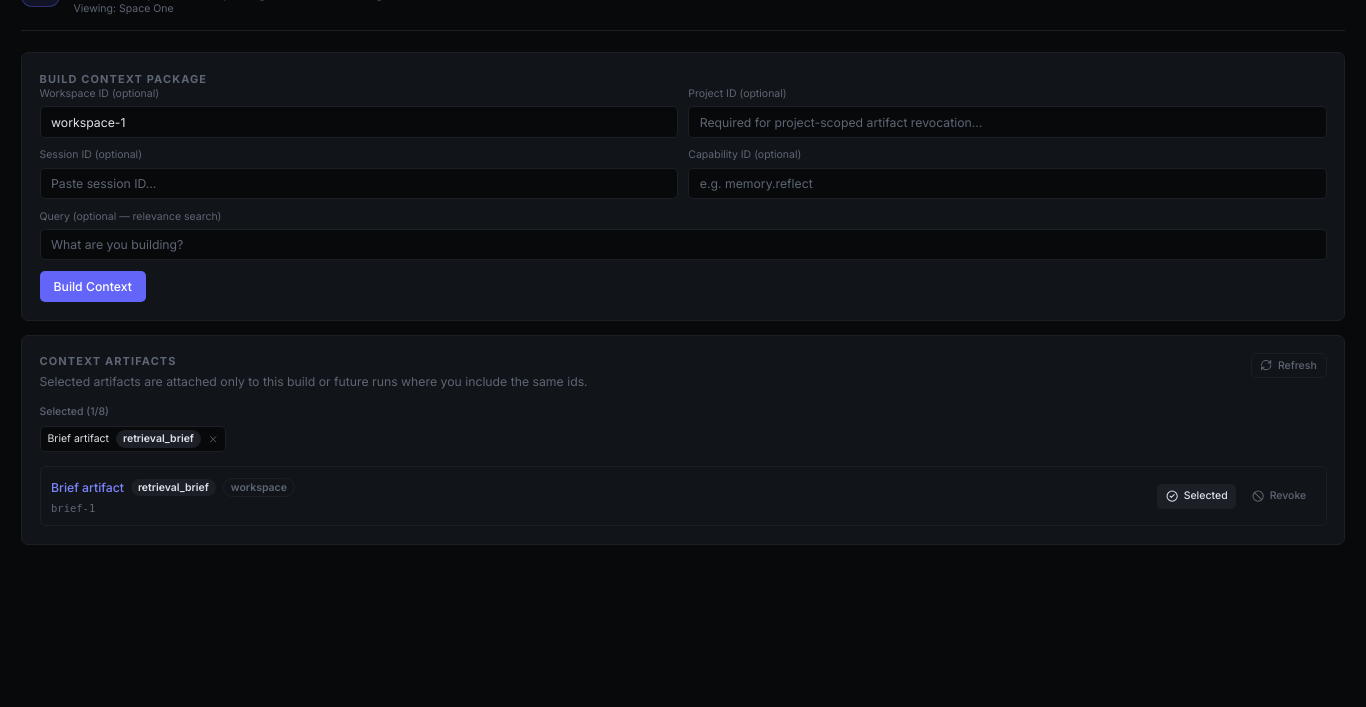
Test: ContextPreviewPage artifact attachments › loads attachable artifacts by type and sends selected ids into context build
The width and height of the screenshot is (1366, 707).
Expected: the text "Brief artifact" is shown, [48,432,109,446]
Click the button "Build Context": click(93, 287) [40,271,146,302]
(page scrolled)
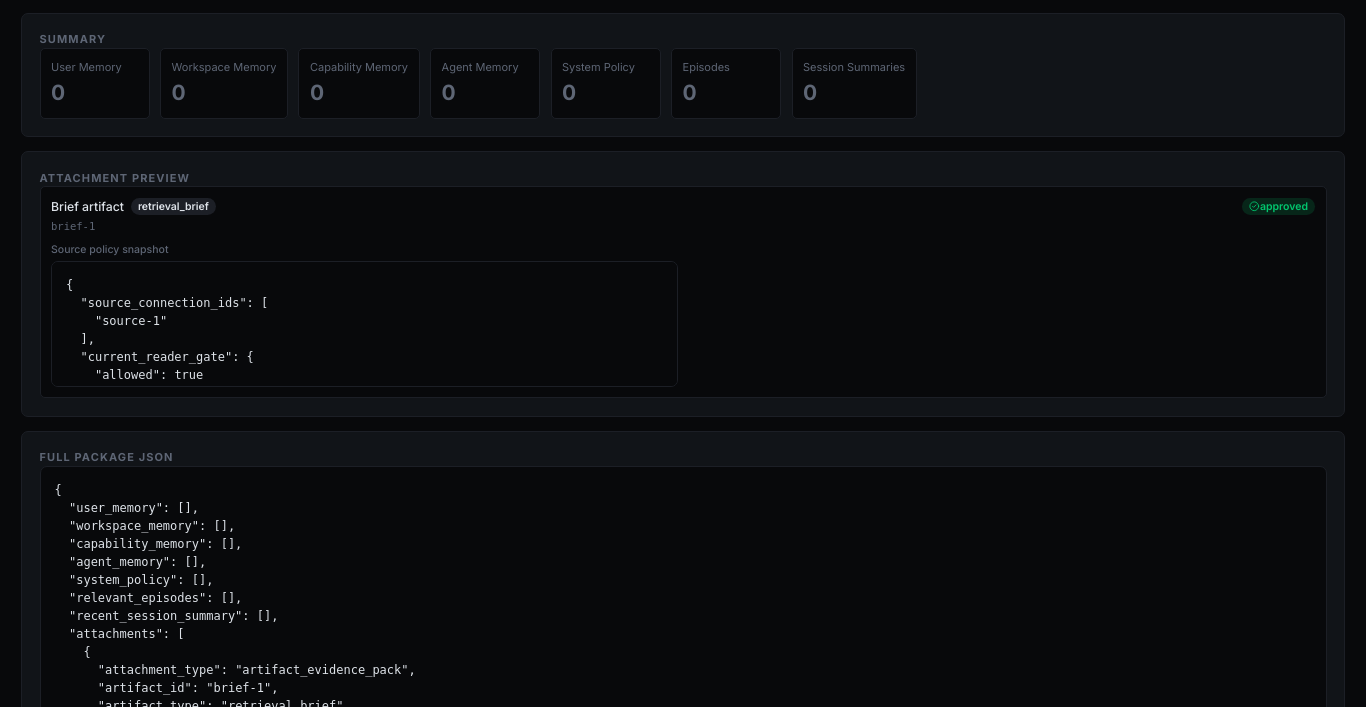
Expected: the text "Source policy snapshot" is shown, [51,243,168,256]
Expected: the text "source-1" is shown, [66,278,268,418]
